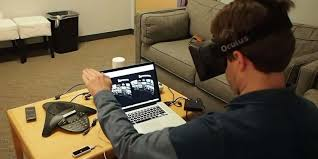oculus: (188, 30, 258, 84)
